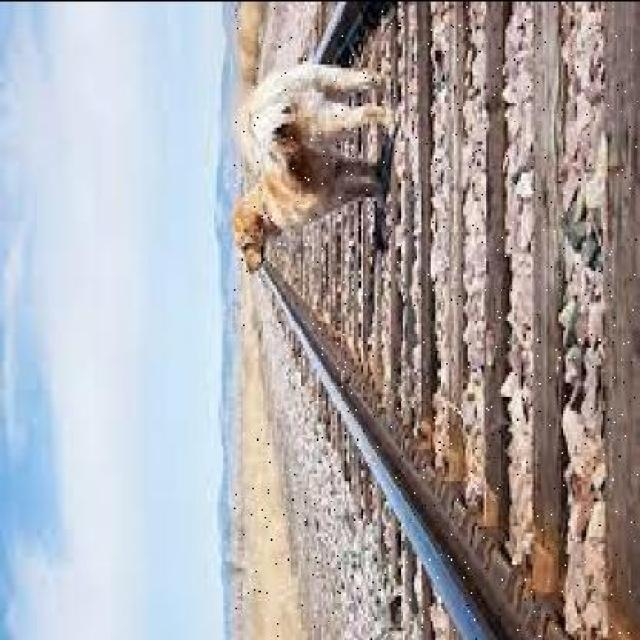danger: (236, 22, 392, 284)
rail: (233, 4, 638, 640)
